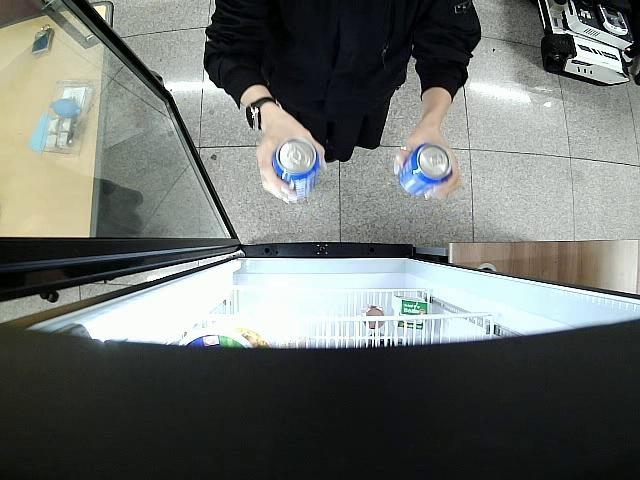13_pocariSweat: (398, 142, 453, 198), (272, 137, 318, 202)
